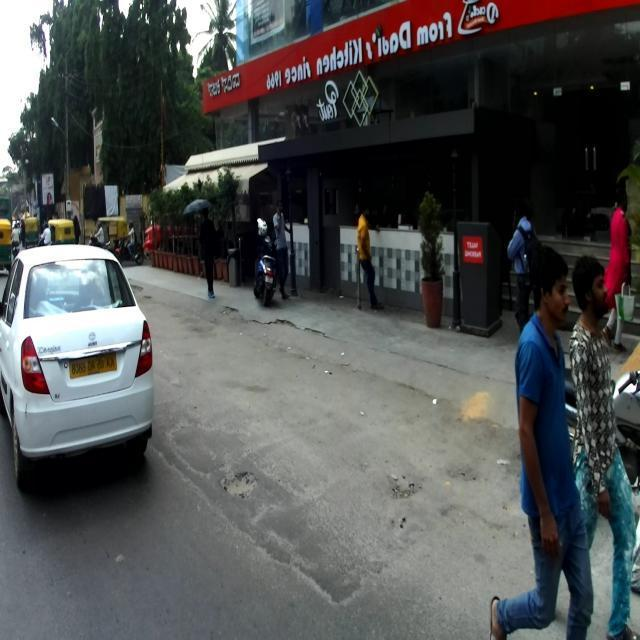Pothole: (362, 455, 429, 550), (204, 461, 279, 538), (438, 451, 480, 521)
